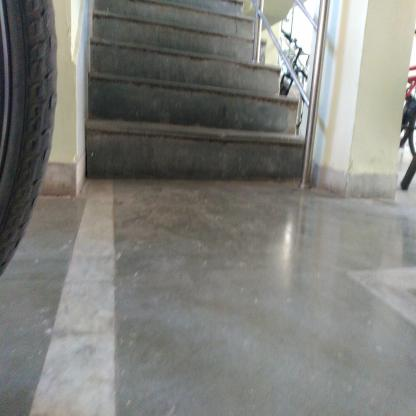stairs: (95, 8, 252, 193)
